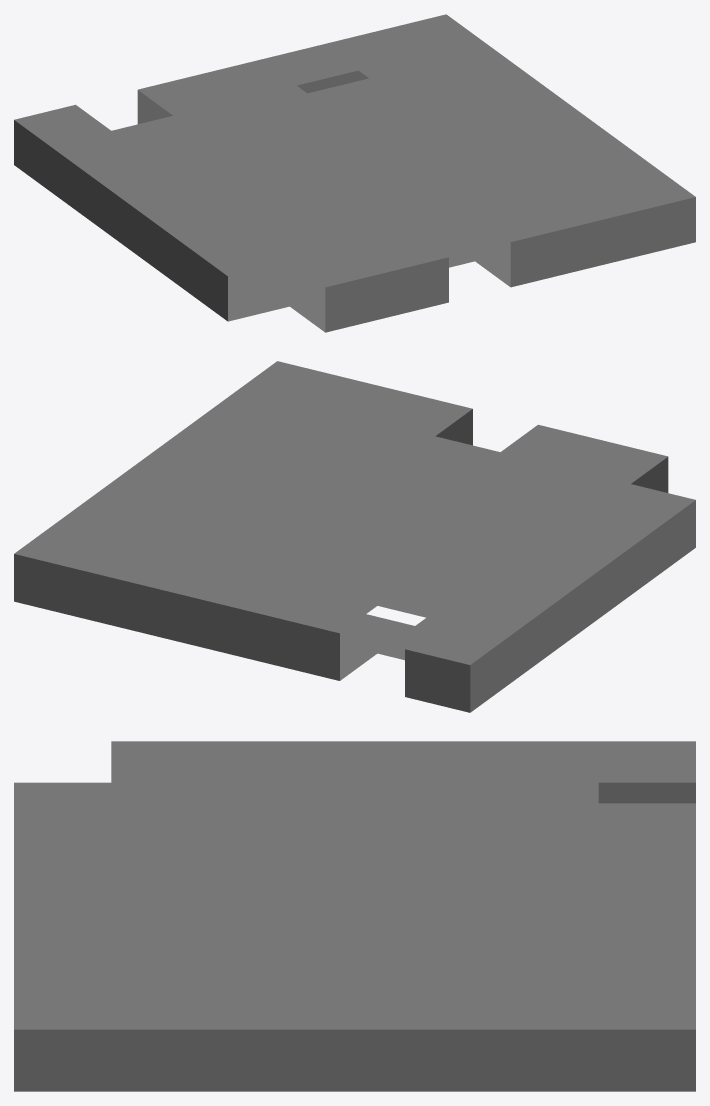
Rendered from Stage5.obj.
3 renders of one model, top to bottom at view 1: azimuth 30°, elevation 25°; view 2: azimuth 150°, elevation 25°; view 3: azimuth 270°, elevation 25°, orthographic. The views are drawn at different scales.
Visible parts, largest first — view 1: default; view 2: default; view 3: default.
Part boxes in pixels (box(x1,y1,x2,y2)): default: box(14, 14, 695, 332); default: box(14, 361, 695, 712); default: box(14, 741, 695, 1091).
Bounding box in the file's own units: 5 × 0.5 × 5.
1 material, 1 textured.
